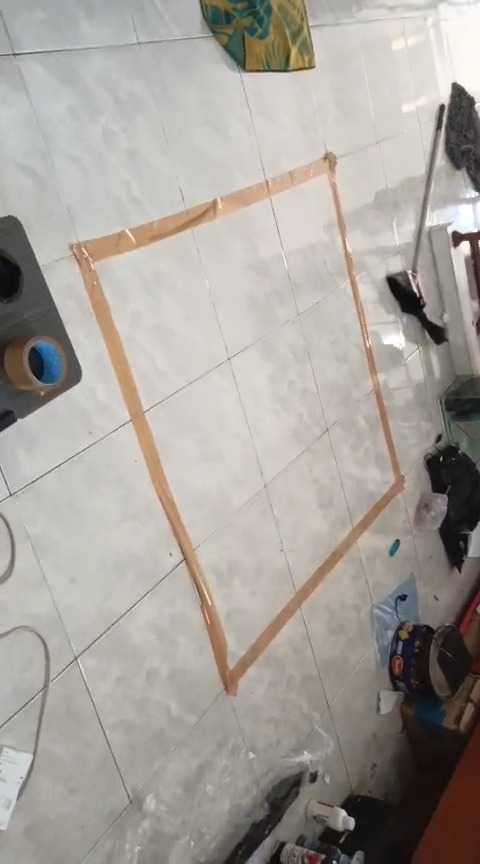floor marking: (72, 153, 403, 693)
